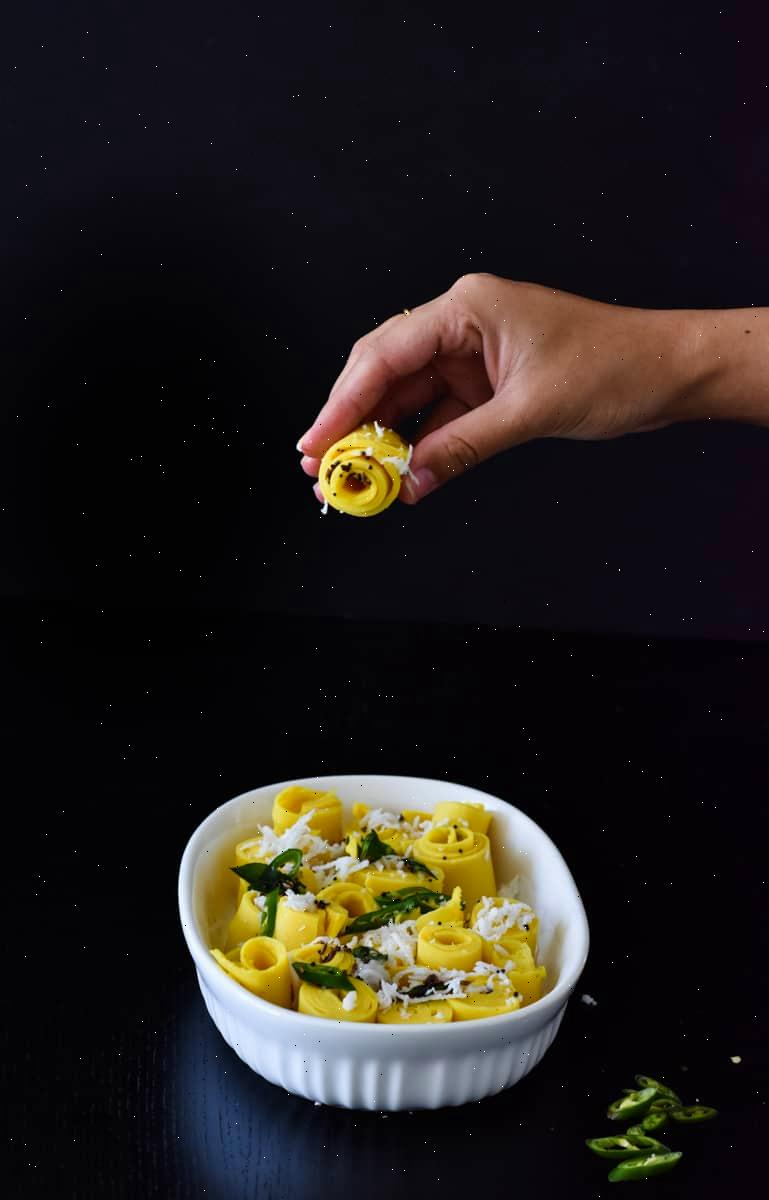khandvi: (233, 803, 547, 1010)
